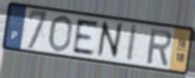7: (27, 8, 49, 52)
E: (72, 18, 100, 57)
I: (125, 24, 140, 64)
N: (96, 19, 124, 60)
O: (47, 14, 74, 54)
R: (145, 26, 173, 68)
